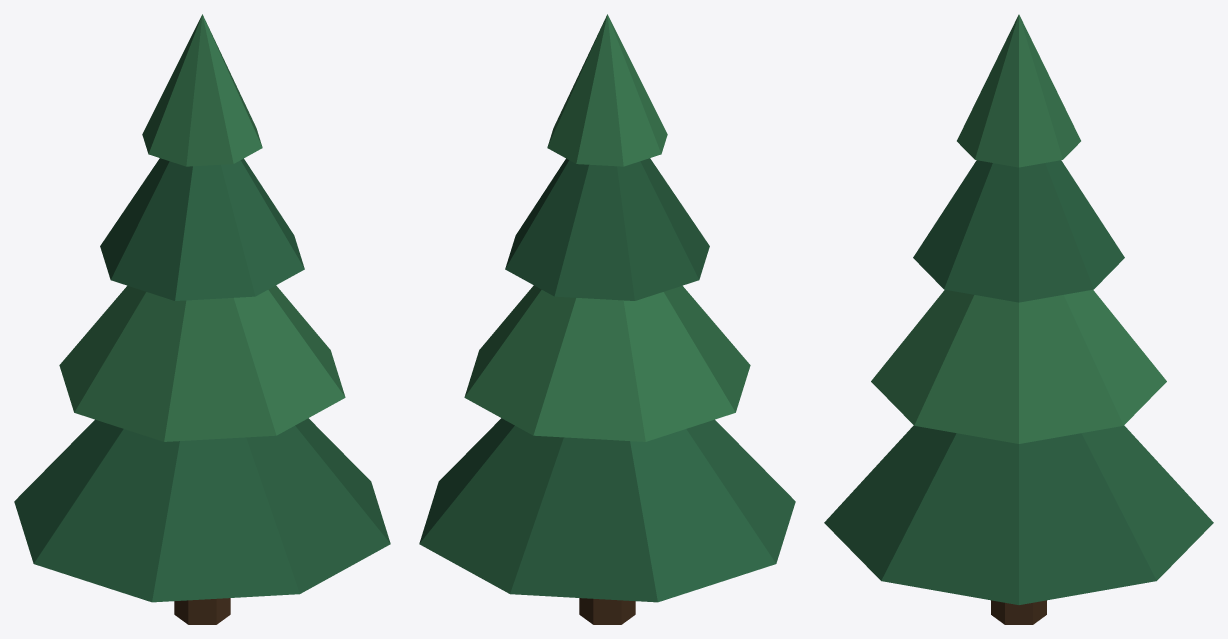
File: TreePine.glb
3 views of the same model, side by side, from view 1: azimuth 30°, elevation 25°; view 2: azimuth 150°, elevation 25°; view 3: azimuth 270°, elevation 25° (orthographic).
Visible parts, largest first — view 1: TreePine; view 2: TreePine; view 3: TreePine.
Boxes of the visible parts, left/top/right/bottom form: TreePine: left=14, top=14, right=390, bottom=624; TreePine: left=419, top=14, right=795, bottom=624; TreePine: left=824, top=14, right=1213, bottom=624.
Bounding box in the file's own units: 2.5 × 4.25 × 2.5.
